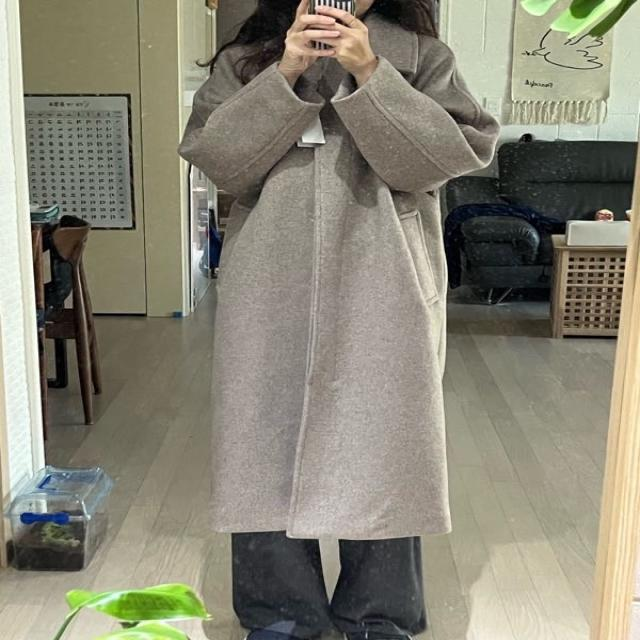coat: (178, 7, 498, 540)
slacks: (227, 530, 424, 637)
